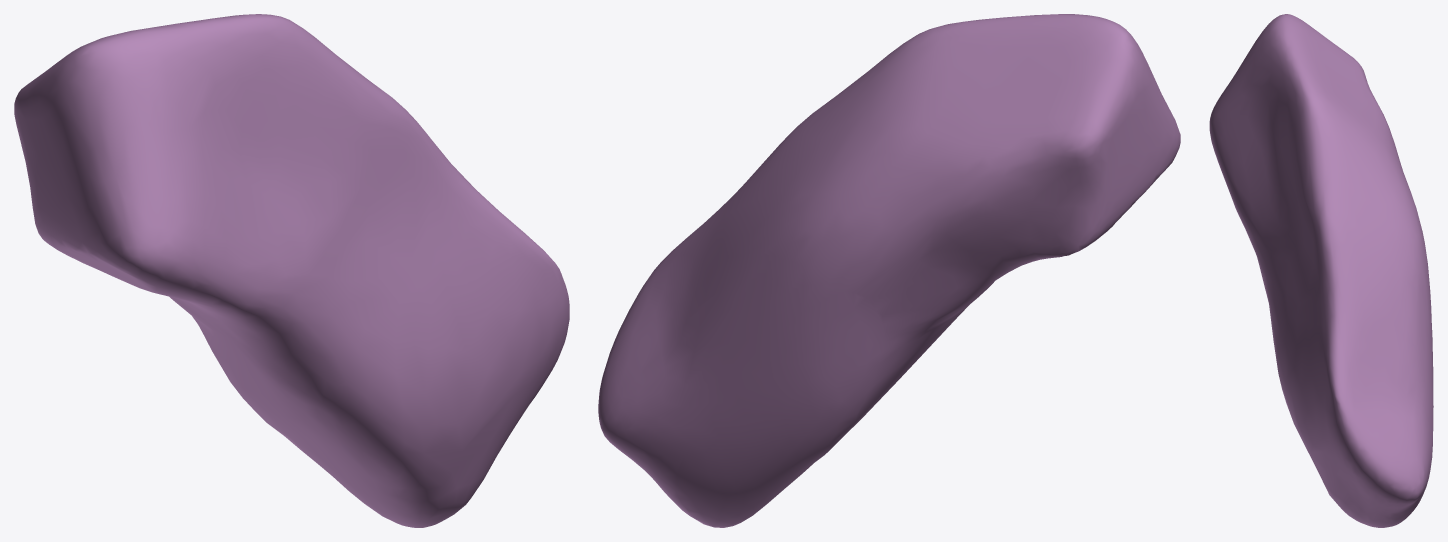
3 views of the same model, side by side, from view 1: azimuth 30°, elevation 25°; view 2: azimuth 150°, elevation 25°; view 3: azimuth 270°, elevation 25° (orthographic). The views are drawn at different scales.
Parts seen in each view (by area): view 1: 左侧后方形小叶; view 2: 左侧后方形小叶; view 3: 左侧后方形小叶.
Boxes of the visible parts, left/top/right/bottom form: 左侧后方形小叶: left=14, top=14, right=569, bottom=527; 左侧后方形小叶: left=598, top=14, right=1180, bottom=527; 左侧后方形小叶: left=1209, top=14, right=1433, bottom=527.
Bounding box in the file's own units: 0.0623 × 0.0664 × 0.0343.
